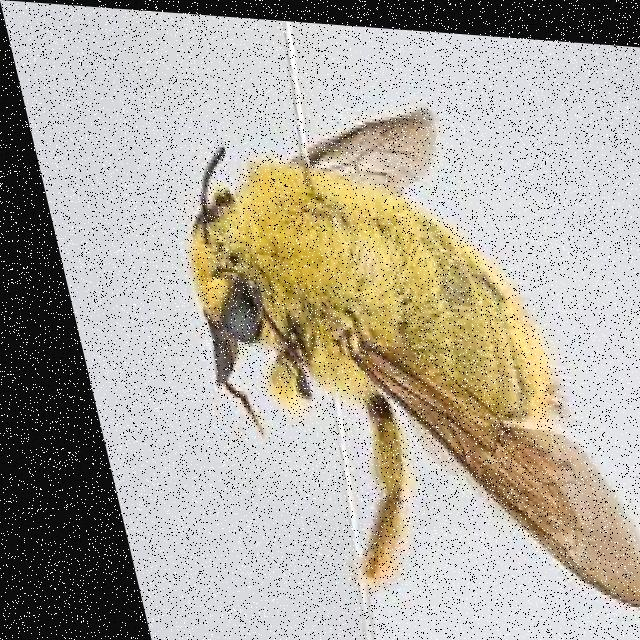Xylocopa: (123, 63, 640, 620)
